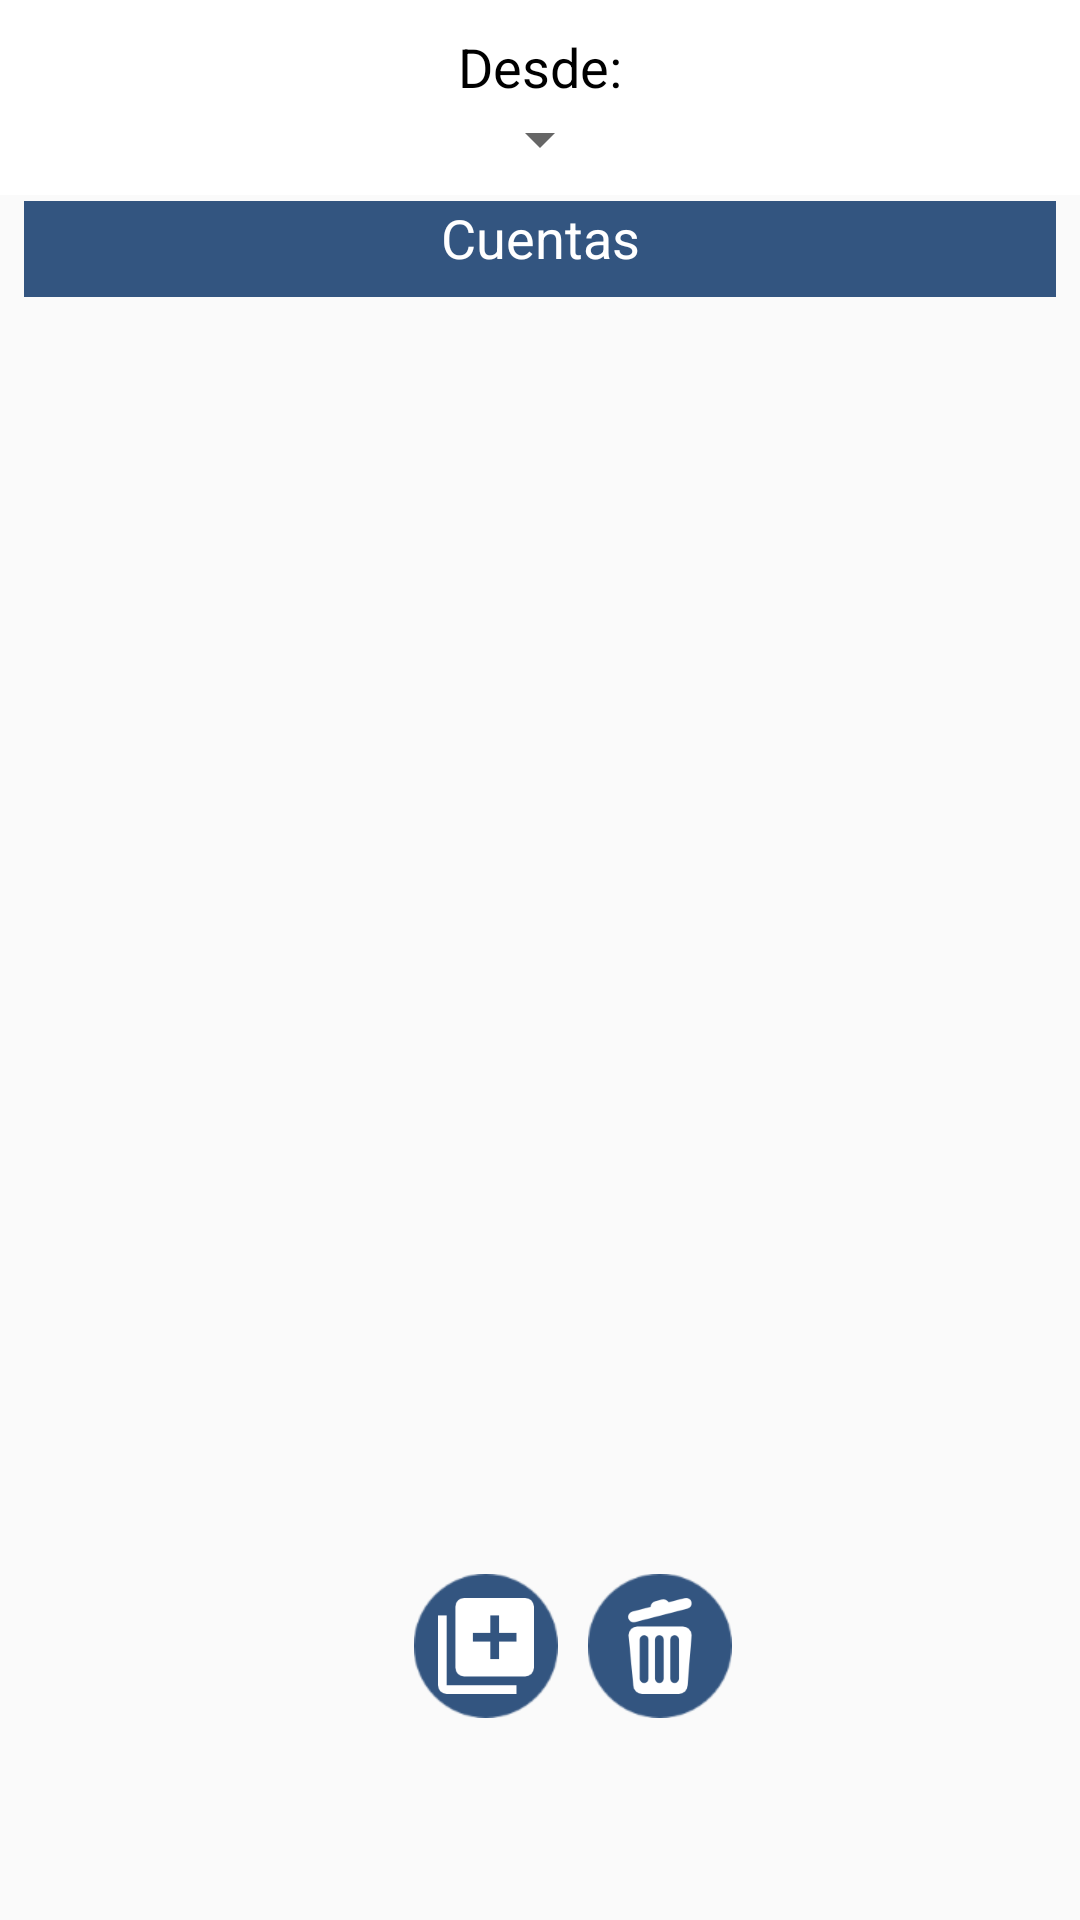

Named icons in this screenshot (1080px×1920px) and their bounding boxes, (x1, y1, x2, y2):
anadir: (414, 1574, 558, 1718)
basura: (588, 1574, 732, 1718)
